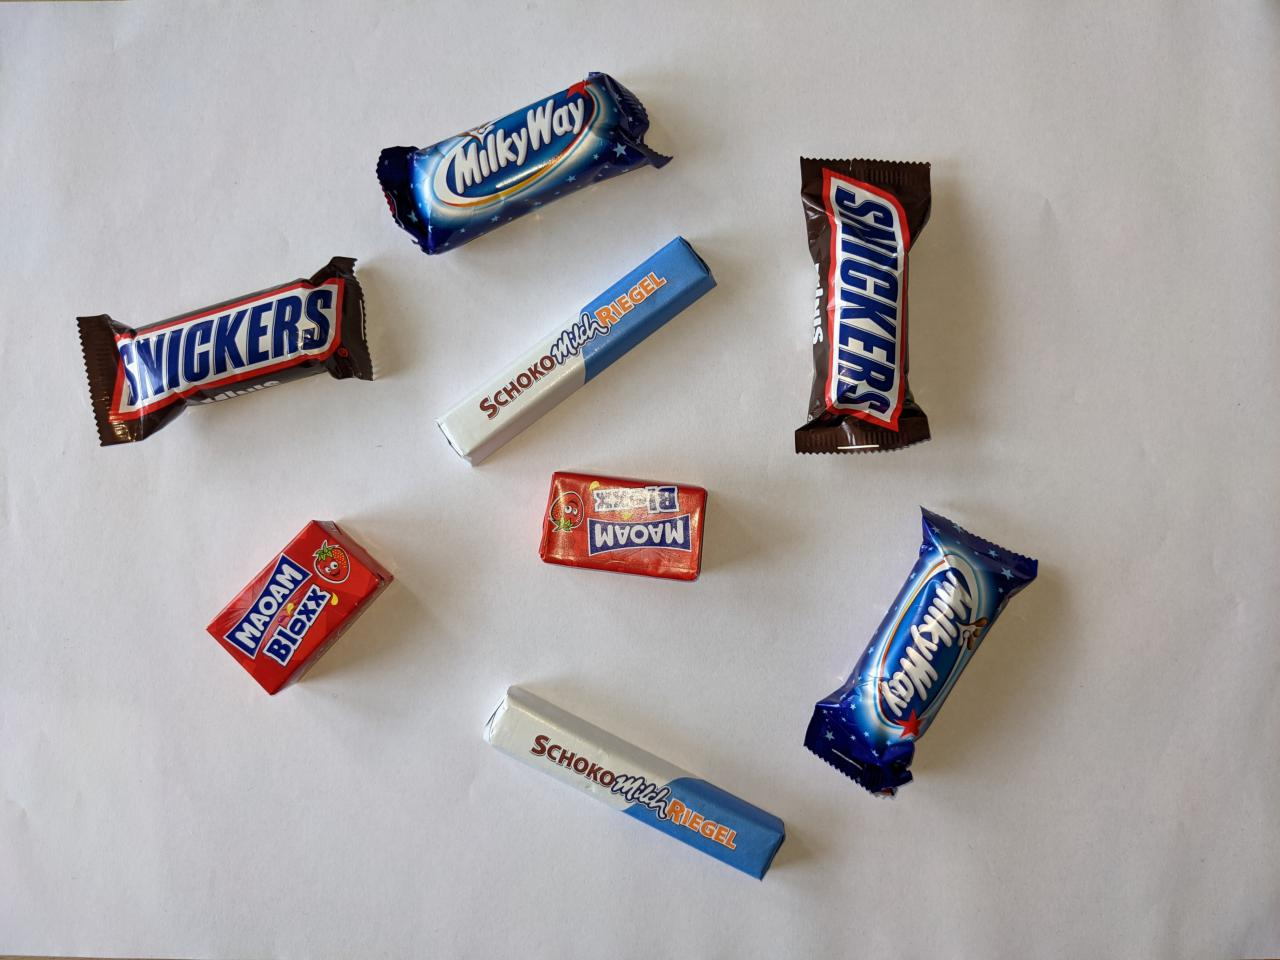MAOAM: (199, 510, 401, 707), (531, 464, 716, 587)
MilkyWay: (796, 498, 1052, 808), (370, 67, 681, 265)
Schokoriegel: (429, 225, 729, 479), (474, 676, 796, 891)
Snickers: (69, 251, 384, 452), (784, 148, 943, 461)
